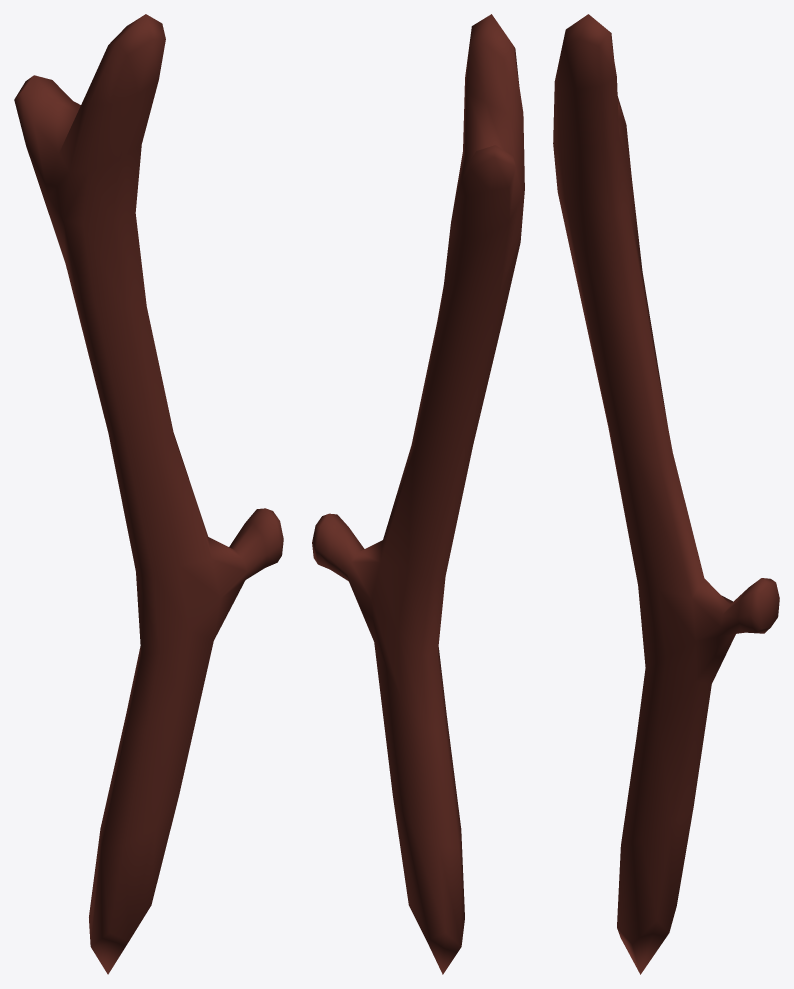
File: stick-3.fbx
3 views of the same model, side by side, from view 1: azimuth 30°, elevation 25°; view 2: azimuth 150°, elevation 25°; view 3: azimuth 330°, elevation 25° (orthographic). The views are drawn at different scales.
Parts seen in each view (by area): view 1: stick-3; view 2: stick-3; view 3: stick-3.
Part boxes in pixels (x1,y1,x2,y2): stick-3: (14, 14, 283, 974); stick-3: (312, 14, 524, 974); stick-3: (553, 14, 779, 974).
Size of the model in its own units: 131 by 529 by 64.2.
